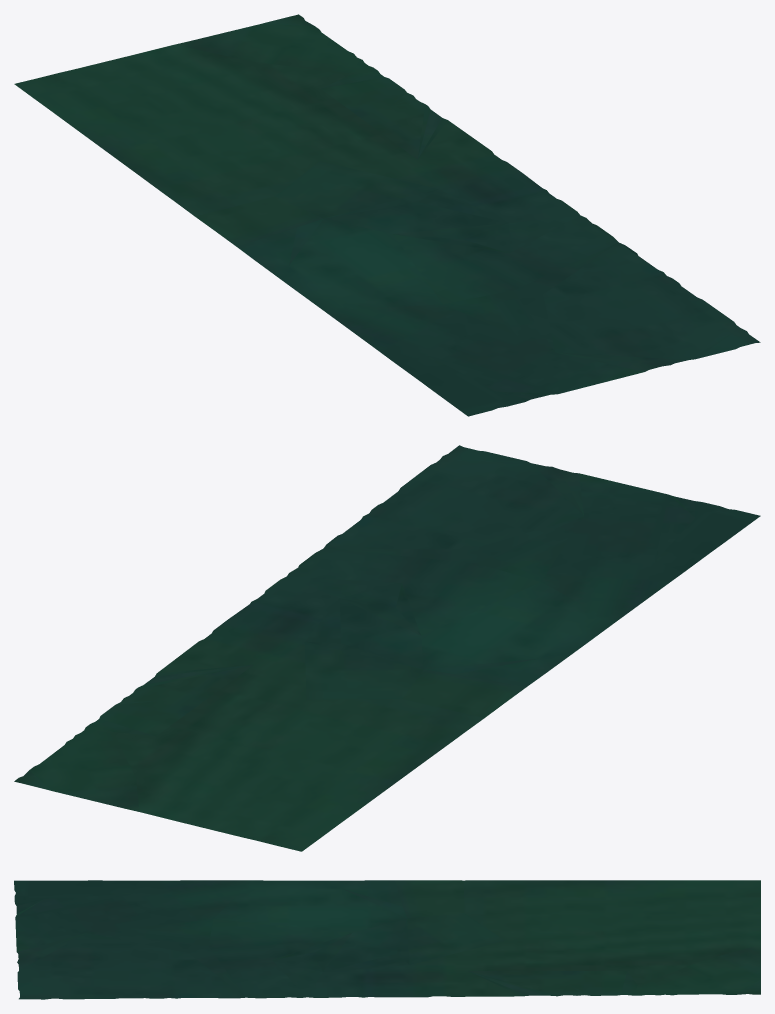
3 views of the same model, one above another, from view 1: azimuth 30°, elevation 25°; view 2: azimuth 150°, elevation 25°; view 3: azimuth 270°, elevation 25° (orthographic). The views are drawn at different scales.
Size of the model in its own units: 180 by 0.4145 by 476.
Materials: 1 (1 with a texture image).
